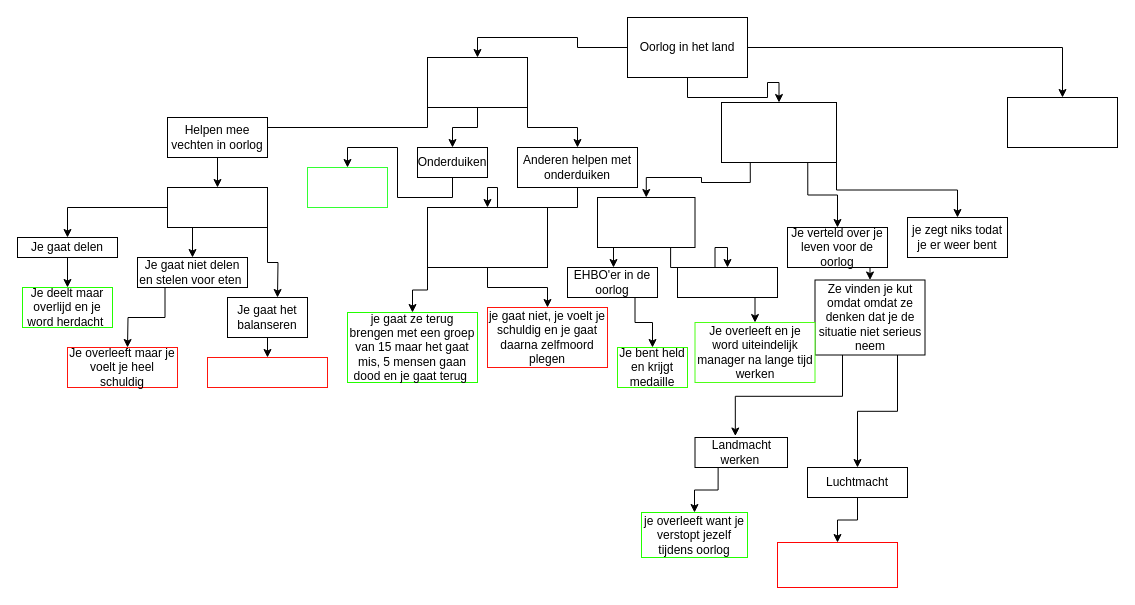
The diagram is 1135 pixels wide and 605 high, and some of its shapes have lost their labels. Each missing label, with the box of its shape:
Je onderduikt voor 5 jaar en overleeft: (306, 166, 388, 208)
je werkt in fabriek en amper geld: (676, 266, 778, 298)
je word neergeschoten in de luchtr en je gaat dood: (776, 542, 898, 588)
Je word opgepakt en je krijgt amper eten: (166, 186, 268, 228)
Je word vergast: (206, 356, 328, 388)
Naar Duitsland en je moet vechten voor nazi's: (1006, 96, 1118, 148)
Naar Frankrijk en je ziet twee mensen praten over de oorlog: (720, 102, 836, 162)
Naar VK en je ziet dat ze soldaten nodig hebben: (426, 56, 528, 108)
praten over dat je door eendjes werd aangevallen: (596, 196, 695, 248)
Sommige mensen worden opgepakt en je voelt je schuldig: (426, 206, 548, 268)
